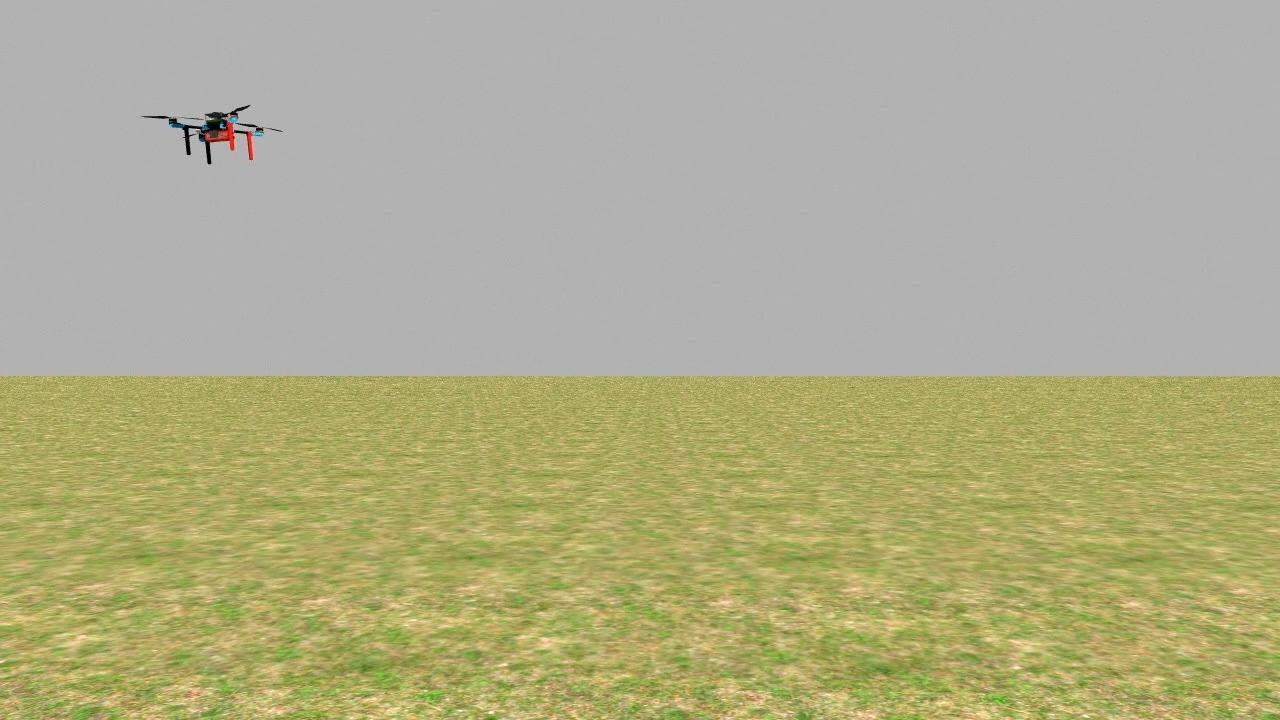UAV: (141, 89, 288, 180)
